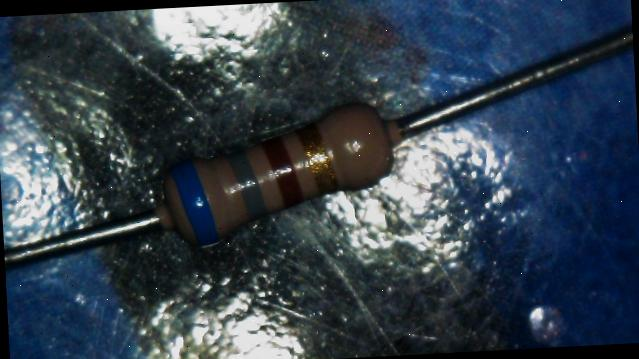blue: (167, 160, 220, 248)
brown: (260, 136, 303, 208)
gold: (296, 123, 338, 195)
grey: (224, 150, 266, 222)
resistor: (124, 71, 420, 283)
